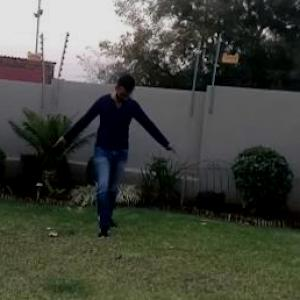land: (56, 71, 187, 244)
